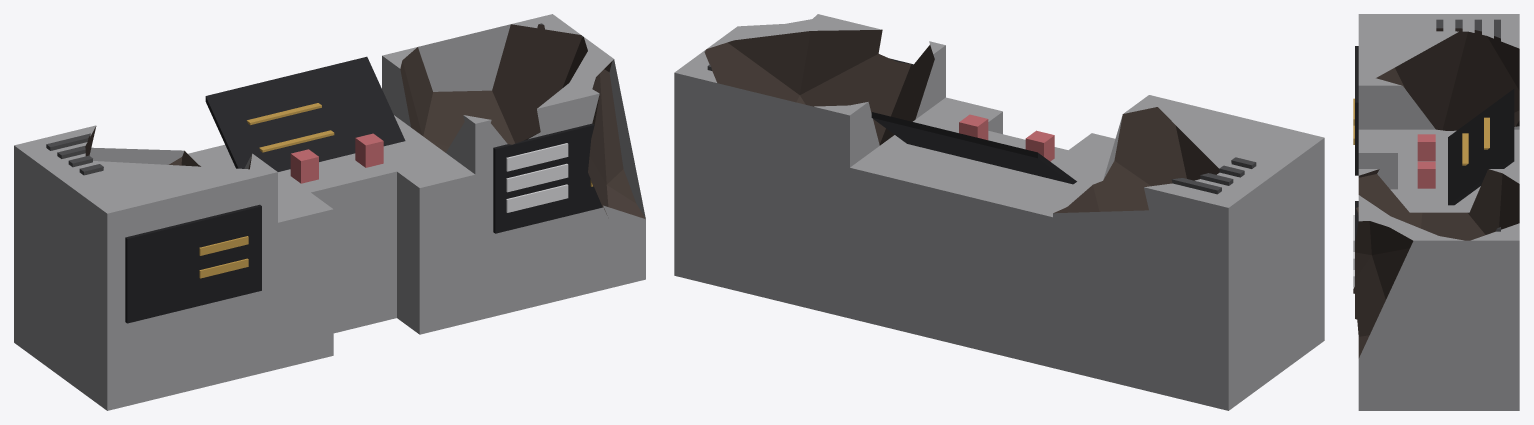
File: vge_d_copilotconsole.obj
3 views of the same model, side by side, from view 1: azimuth 30°, elevation 25°; view 2: azimuth 150°, elevation 25°; view 3: azimuth 270°, elevation 25° (orthographic). The views are drawn at different scales.
Parts seen in each view (by area): view 1: vge_d_copilotconsole; view 2: vge_d_copilotconsole; view 3: vge_d_copilotconsole.
Boxes of the visible parts, x1,y1,x2,y2 form: vge_d_copilotconsole: [14, 14, 645, 410]; vge_d_copilotconsole: [674, 14, 1324, 410]; vge_d_copilotconsole: [1353, 14, 1519, 410].
Size of the model in its own units: 3 by 1.08 by 0.93.
